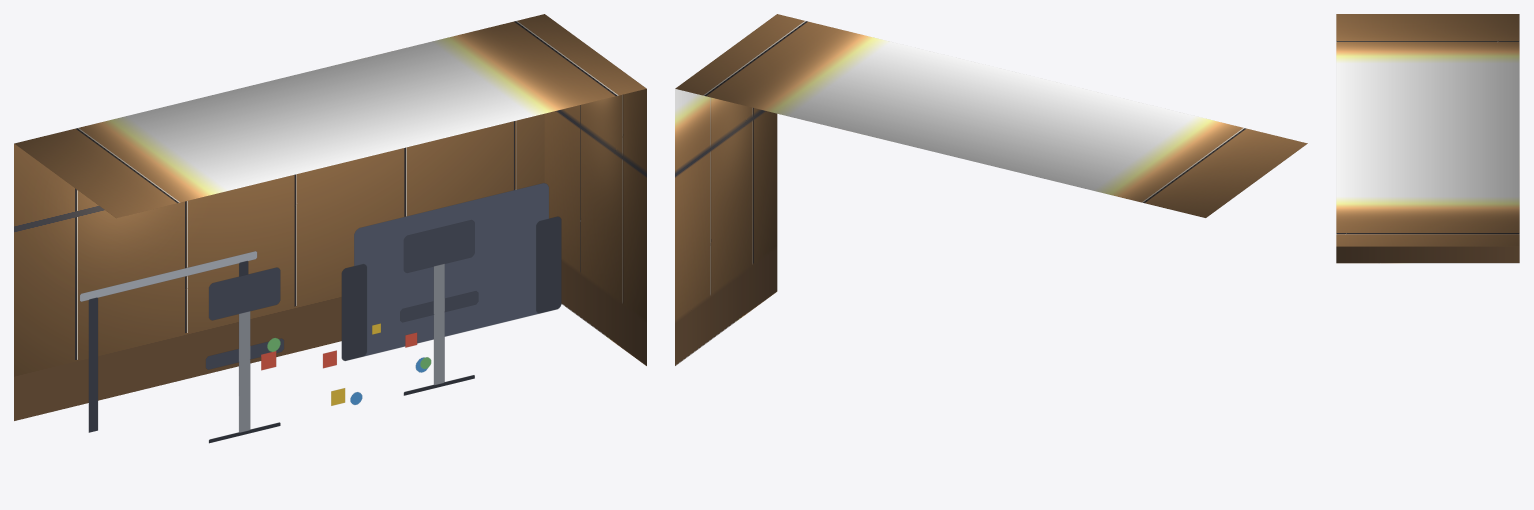
The model's file is combo_103.glb.
3 renders of one model, left to right at view 1: azimuth 30°, elevation 25°; view 2: azimuth 150°, elevation 25°; view 3: azimuth 270°, elevation 25°, orthographic. The views are drawn at different scales.
Visible parts, largest first — view 1: InteriorBox, PropLayers; view 2: InteriorBox; view 3: InteriorBox.
Boxes of the visible parts, box(x1,y1,x2,y2) form: InteriorBox: box(14, 14, 646, 420); PropLayers: box(80, 183, 561, 443); InteriorBox: box(675, 14, 1307, 365); InteriorBox: box(1336, 14, 1519, 263).
Size of the model in its own units: 3 by 1.5 by 1.
Materials: 2 (2 with a texture image).
